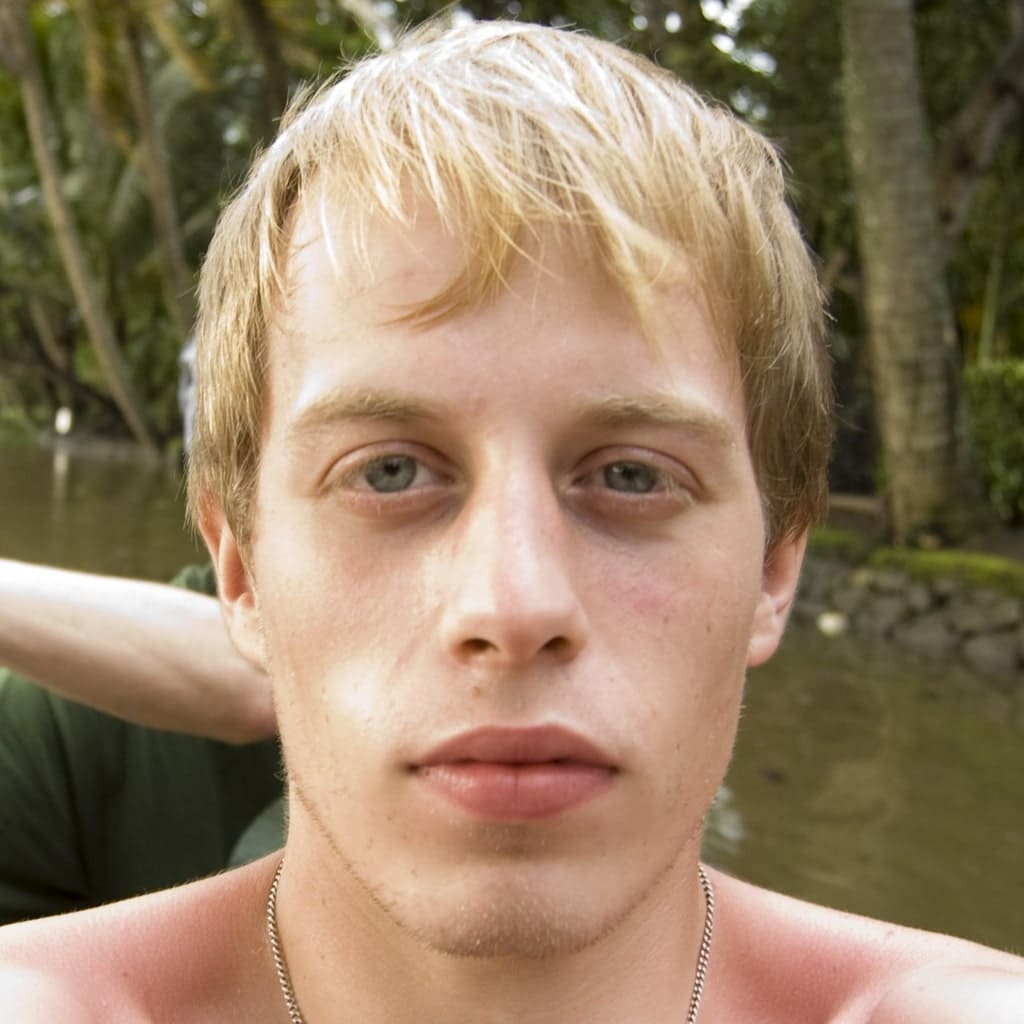without_mask: (263, 166, 757, 941)
